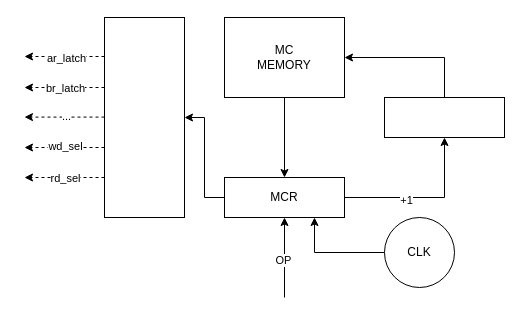
Some shapes in this 522 by 323 pixel diagram are drawn without their labels. The box of each missing label's shape, as (x1, y1, x2, y2) in pixels:
Counter: (384, 96, 504, 138)
DECODER: (104, 16, 184, 218)
